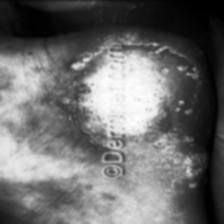Toxin: (59, 52, 107, 146), (127, 46, 170, 150)
